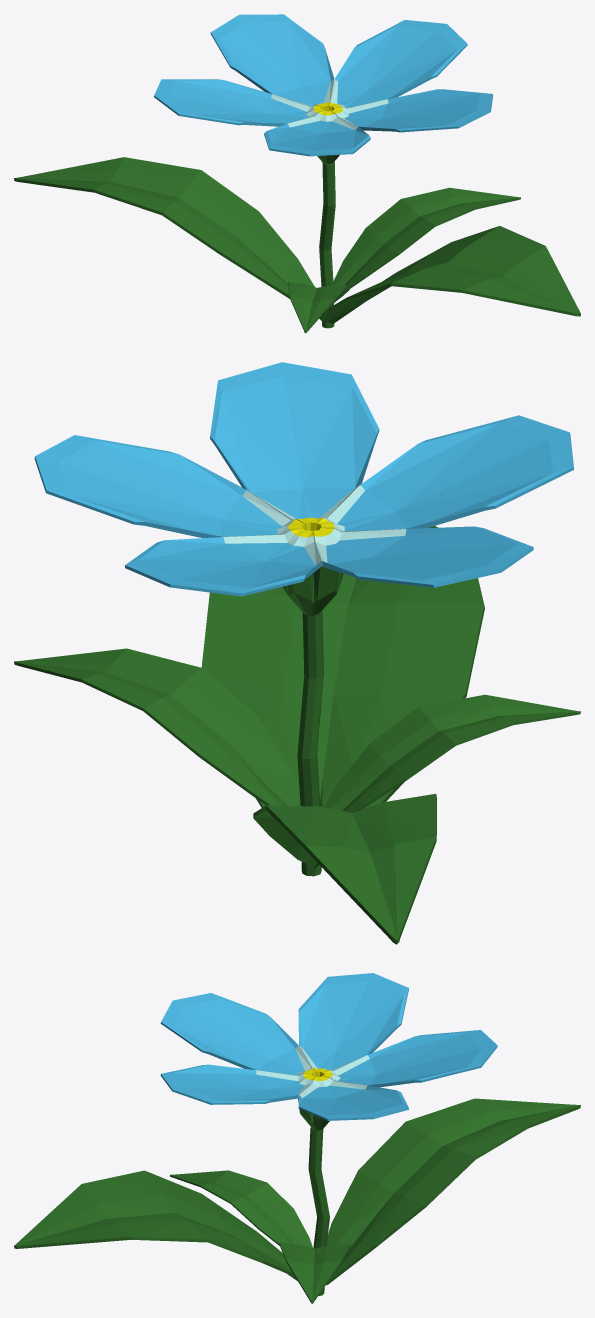
File: fmn2-stage2.glb
The picture shows the model from 3 angles, top to bottom: view 1: azimuth 30°, elevation 25°; view 2: azimuth 150°, elevation 25°; view 3: azimuth 270°, elevation 25°; orthographic projection. The views are drawn at different scales.
Visible parts, largest first — view 1: Petal.001, Leaf.003, Leaf.004, Leaf.006, Stem.001, Leaf.005; view 2: Petal.001, Leaf.004, Leaf.006, Leaf.003, Leaf.005, Stem.001; view 3: Petal.001, Leaf.003, Leaf.004, Leaf.005, Leaf.006, Stem.001.
Boxes of the visible parts, <box> form: Petal.001: <box>154,14,492,163</box>; Leaf.003: <box>14,157,322,320</box>; Leaf.004: <box>321,226,580,324</box>; Leaf.006: <box>333,187,520,288</box>; Stem.001: <box>319,162,335,328</box>; Leaf.005: <box>288,282,350,333</box>; Petal.001: <box>34,362,573,615</box>; Leaf.004: <box>201,526,484,808</box>; Leaf.006: <box>14,648,300,805</box>; Leaf.003: <box>253,794,436,944</box>; Leaf.005: <box>324,694,580,812</box>; Stem.001: <box>297,611,323,876</box>; Petal.001: <box>160,973,497,1130</box>; Leaf.003: <box>326,1098,580,1285</box>; Leaf.004: <box>14,1170,297,1281</box>; Leaf.005: <box>170,1170,312,1247</box>; Leaf.006: <box>279,1242,350,1303</box>; Stem.001: <box>308,1127,329,1295</box>.
Size of the model in its own units: 0.1416 by 0.089 by 0.1841.
